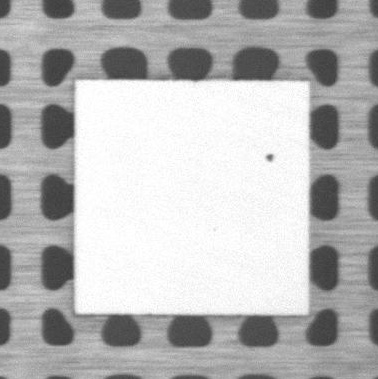DIE_INK: (265, 154, 274, 162)
